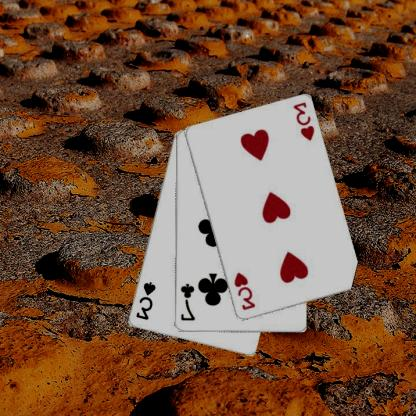3H: (233, 270, 258, 312), (292, 100, 317, 142)
3S: (135, 280, 158, 322)
7C: (180, 282, 198, 322)
